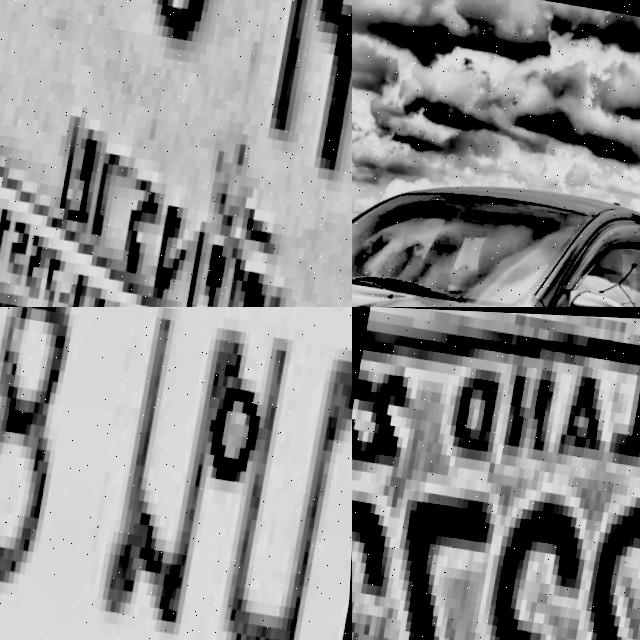license-plate: (0, 307, 352, 640), (0, 0, 352, 307), (352, 307, 640, 640)
